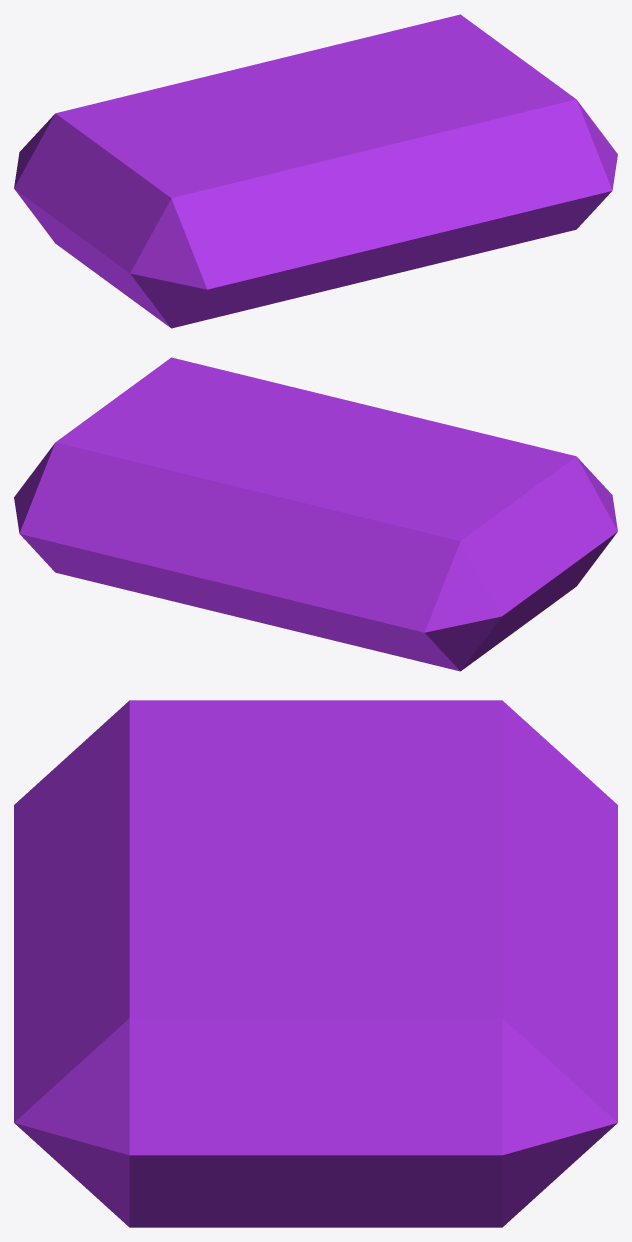
File: Saphire.fbx
3 renders of one model, top to bottom at view 1: azimuth 30°, elevation 25°; view 2: azimuth 150°, elevation 25°; view 3: azimuth 270°, elevation 25°, orthographic. The views are drawn at different scales.
Parts seen in each view (by area): view 1: Saphire; view 2: Saphire; view 3: Saphire.
Boxes of the visible parts, <box> form: Saphire: <box>14,14,617,328</box>; Saphire: <box>14,357,617,671</box>; Saphire: <box>14,700,617,1227</box>.
Size of the model in its own units: 14.37 by 3.67 by 9.59.
